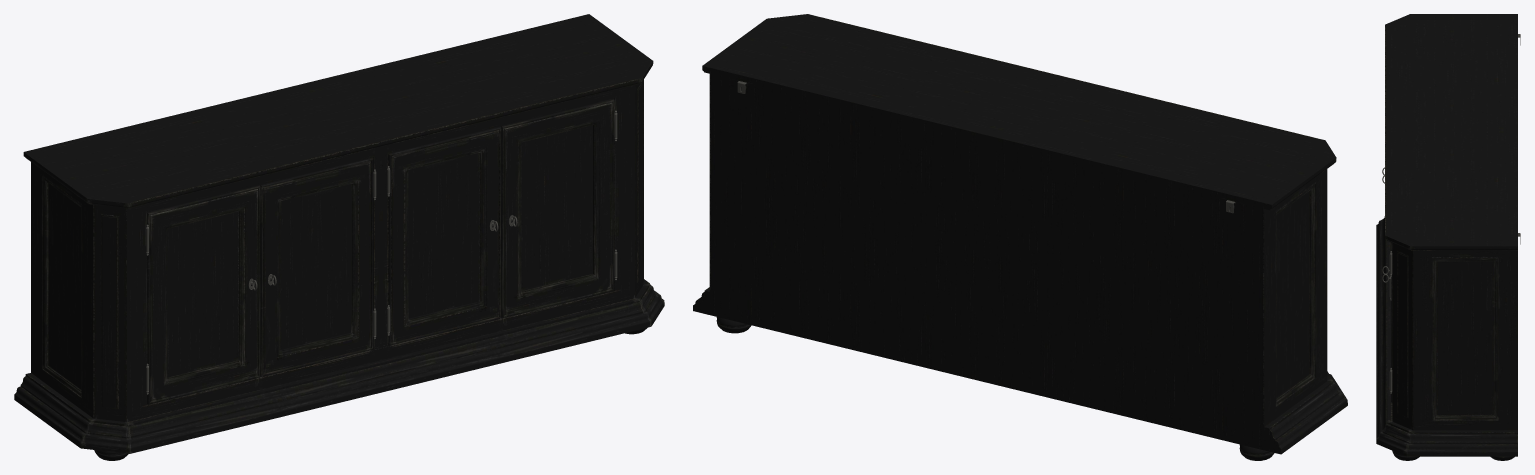
The model's file is example85.glb.
3 views of the same model, side by side, from view 1: azimuth 30°, elevation 25°; view 2: azimuth 150°, elevation 25°; view 3: azimuth 270°, elevation 25° (orthographic). The views are drawn at different scales.
Parts seen in each view (by area): view 1: Buffer Layer (×2); view 2: Buffer Layer; view 3: Buffer Layer (×2).
Part boxes in pixels (box(x1,y1,x2,y2)): Buffer Layer (×2): box(14, 14, 664, 460); Buffer Layer: box(693, 14, 1347, 460); Buffer Layer (×2): box(1376, 14, 1517, 460).
Bounding box in the file's own units: 1.82 × 0.7762 × 0.4639.
2 materials, 2 textured.
